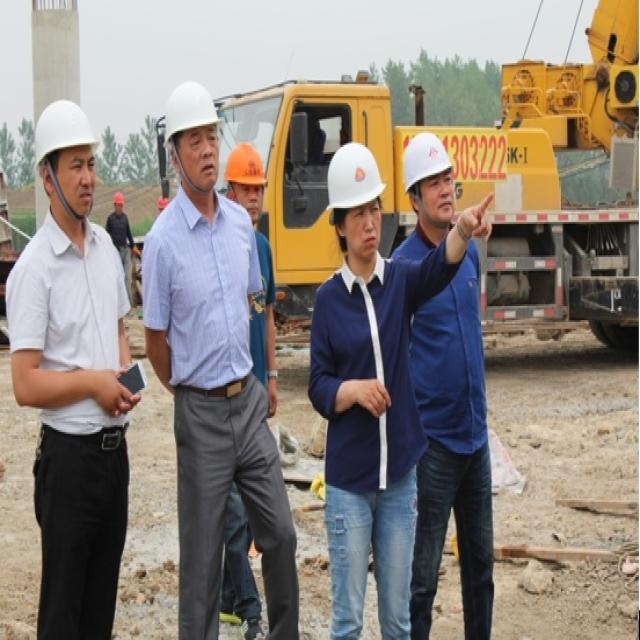Con_Casco: (31, 95, 99, 220), (329, 142, 387, 255)
Sin_Chaleco: (311, 256, 414, 469), (142, 192, 251, 392)
